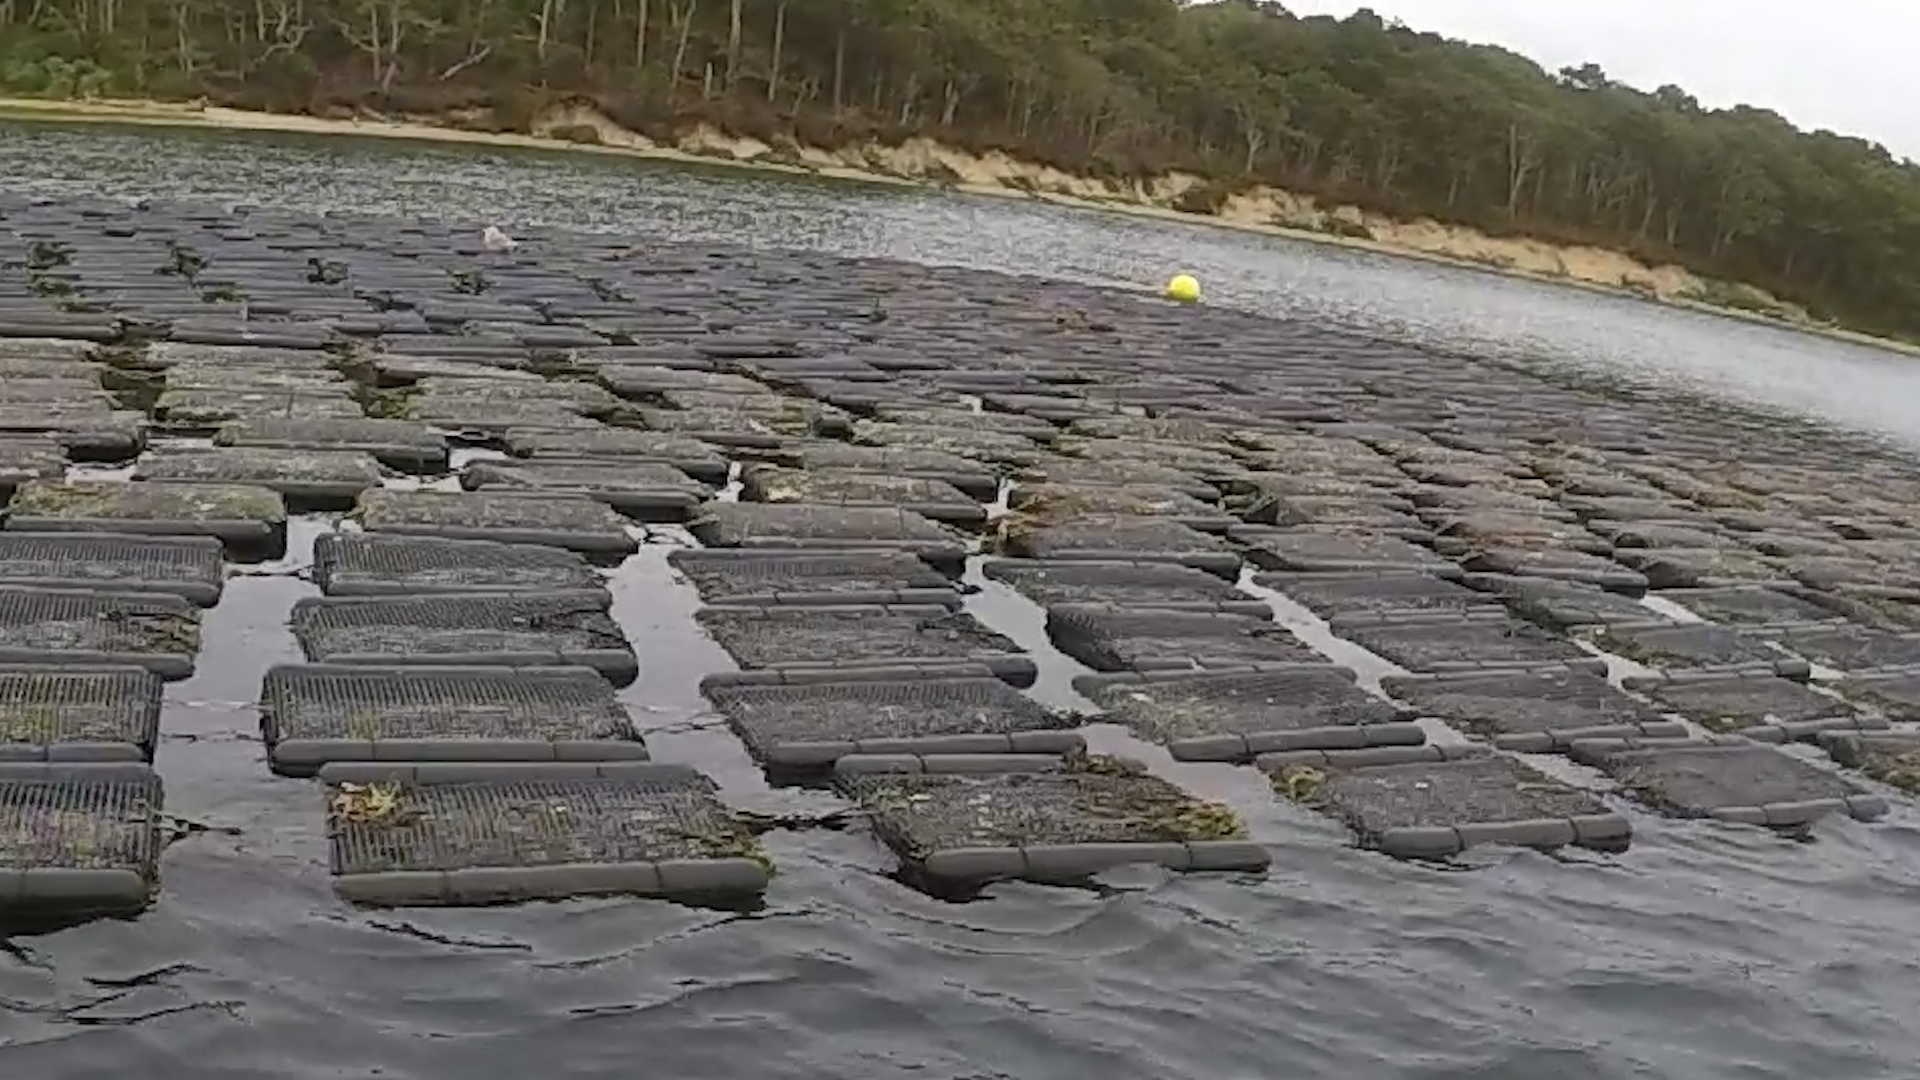bag: (307, 760, 775, 914), (828, 756, 1271, 898), (1259, 752, 1633, 858)
